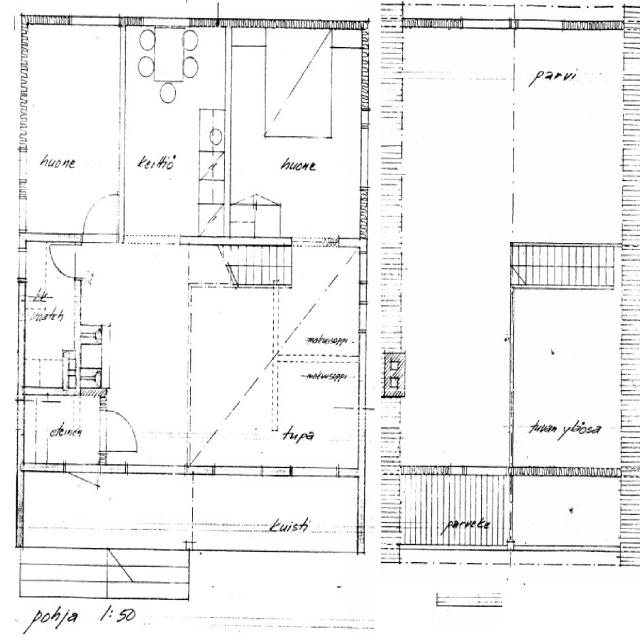door: (82, 192, 116, 245), (65, 468, 98, 518), (100, 411, 138, 451), (48, 246, 81, 280)
